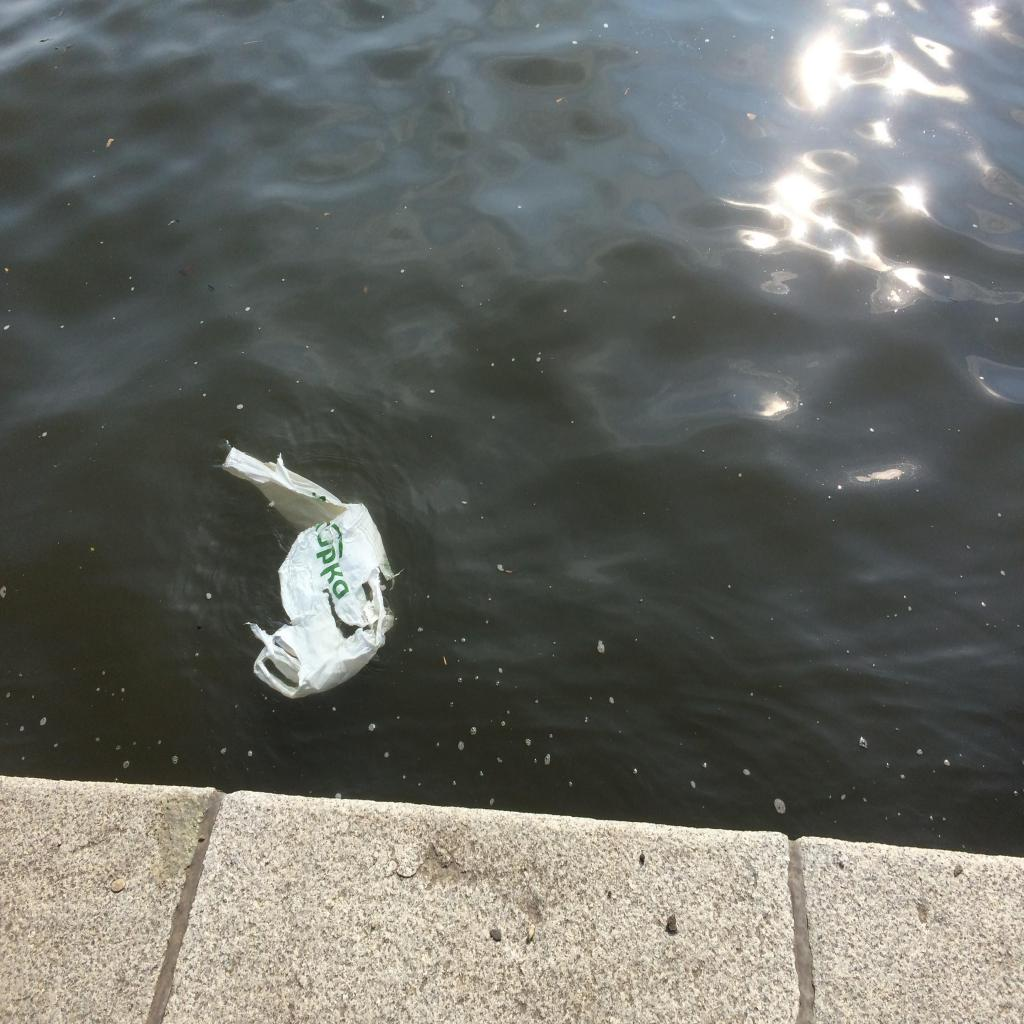Single-use carrier bag: (222, 446, 404, 698)
